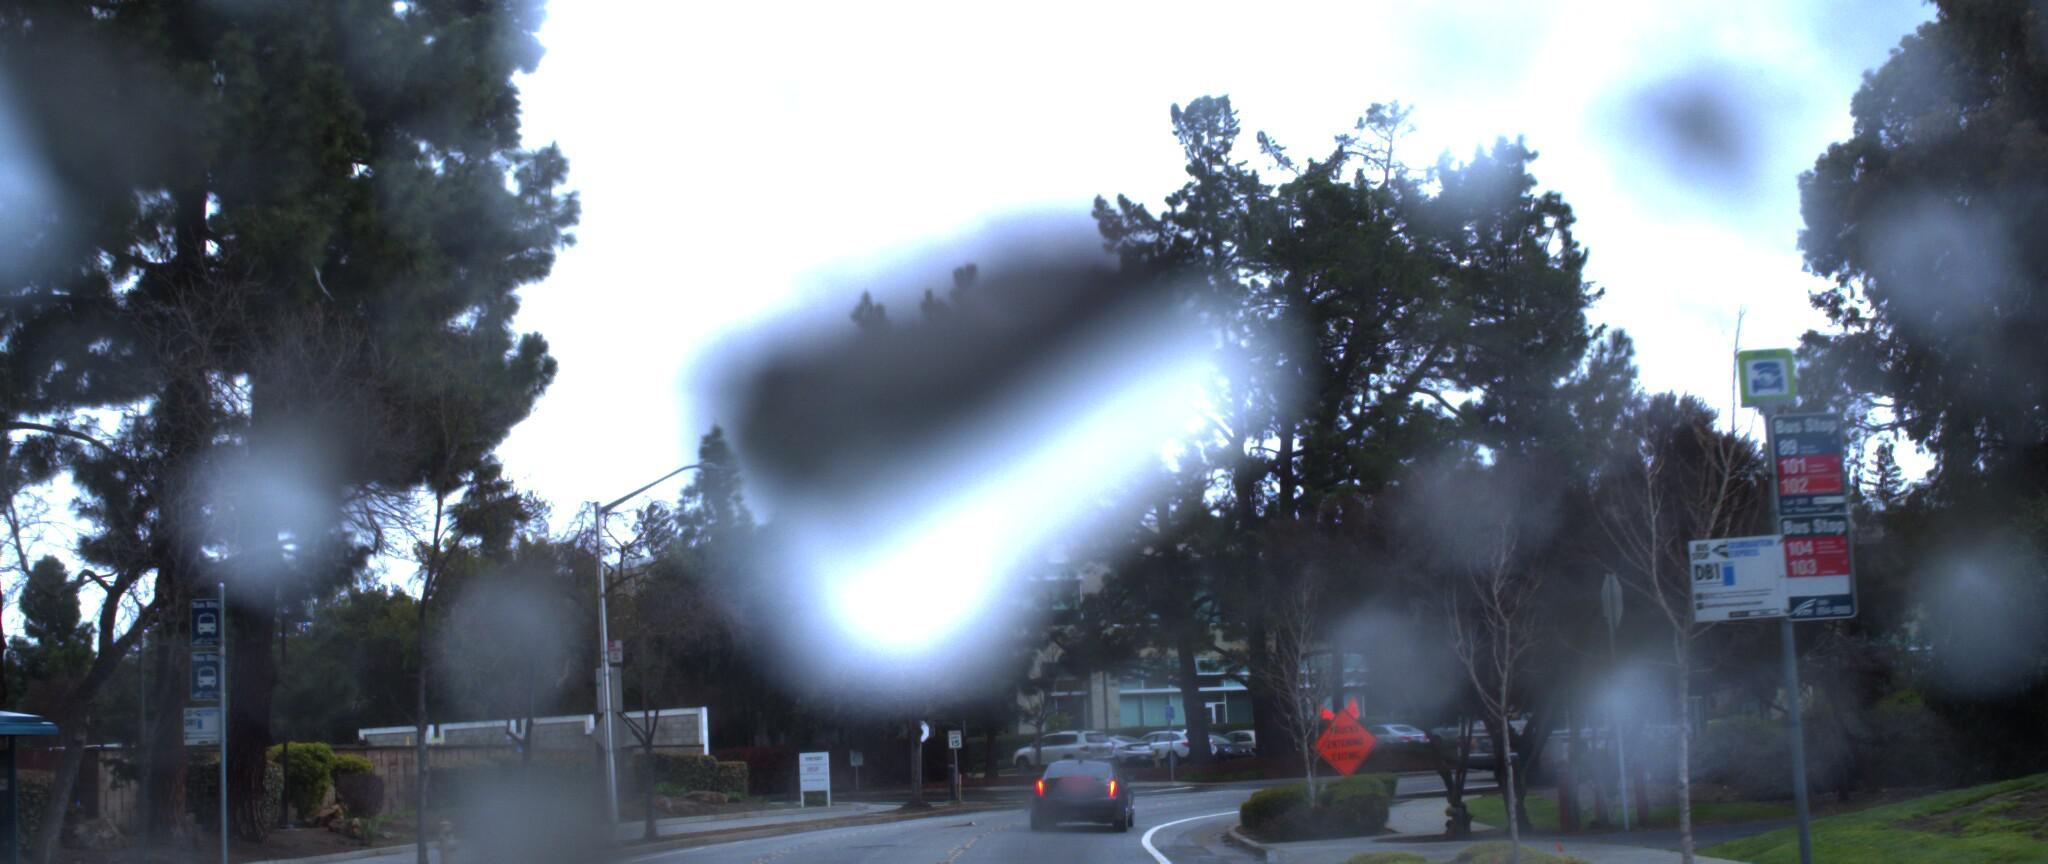car: (1024, 765, 1142, 859)
